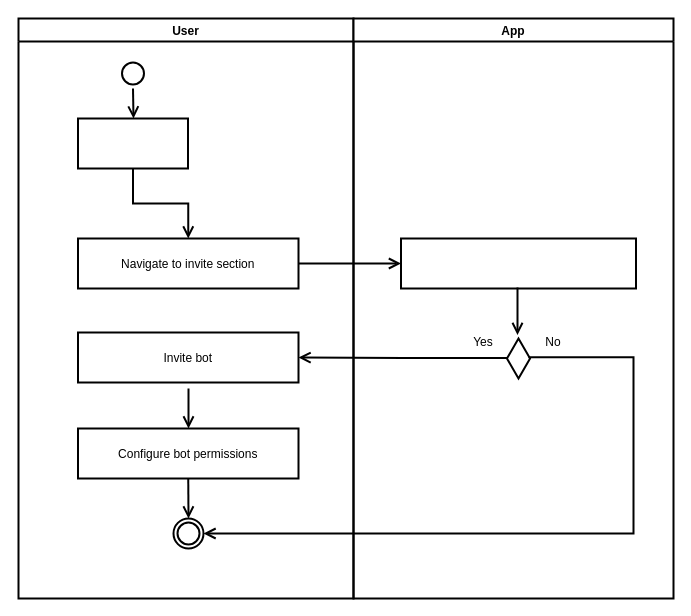
The diagram is 691 pixels wide and 616 high, and some of its shapes have lost their labels. Each missing label, with the centre of its shape:
Check user's server admin permission: the point at 518,263
Navigate to server: the point at 132,143
